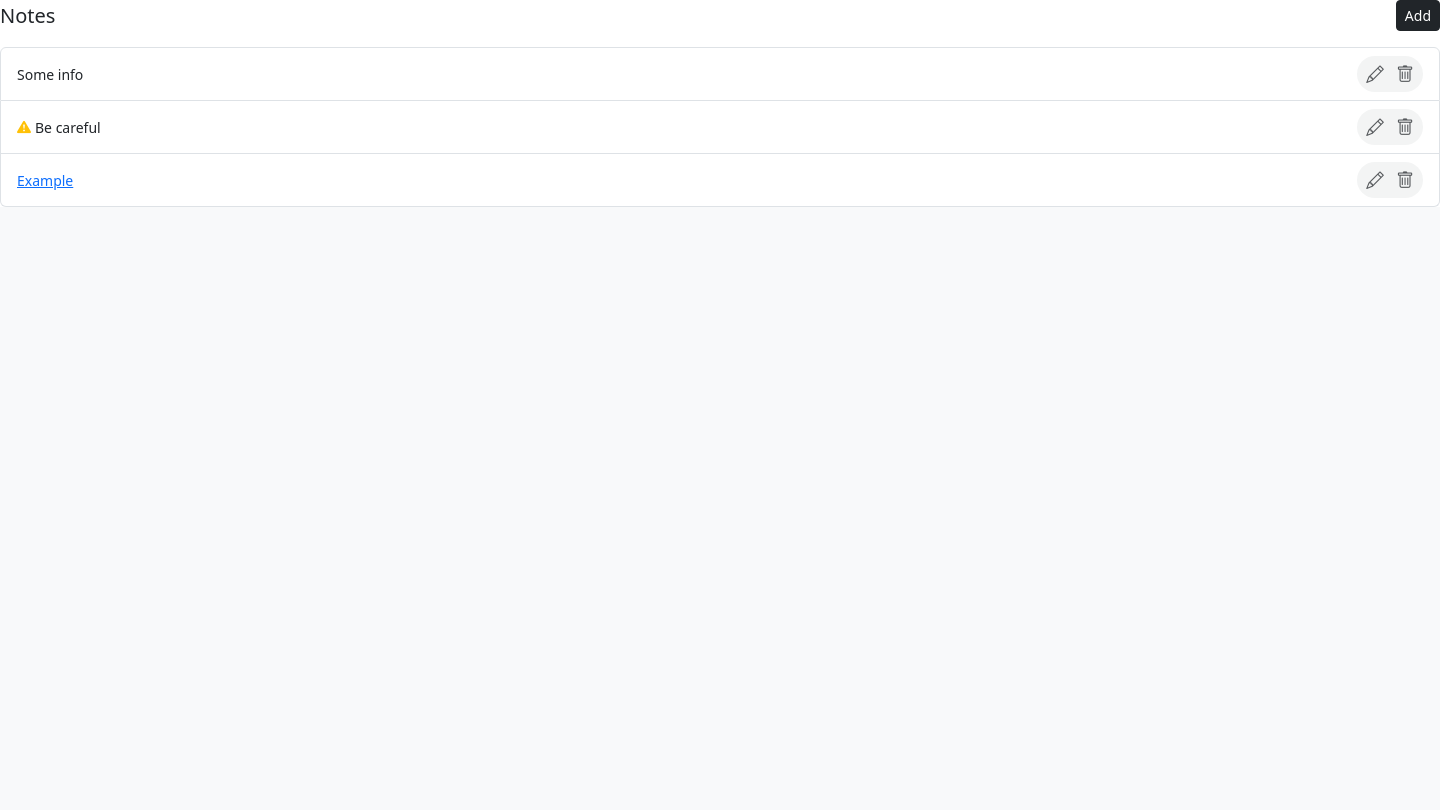
Test: NotesSection › closes edit modal on Cancel
Step 1. Click the button named "Edit note 1" → (1375, 74), box [1357,56,1393,92]
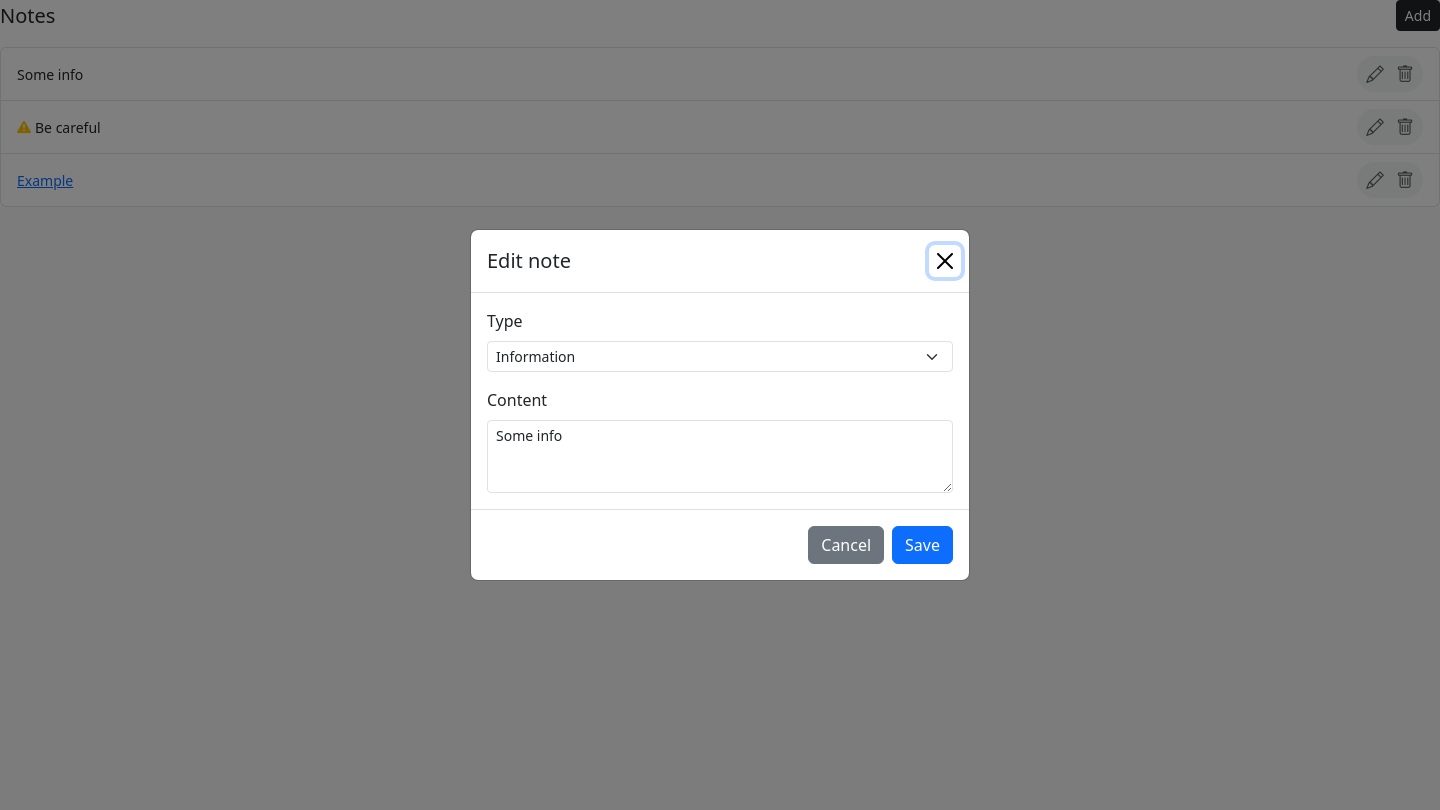
Step 2. Click the button "Cancel" → (846, 545), box [808,526,884,564]
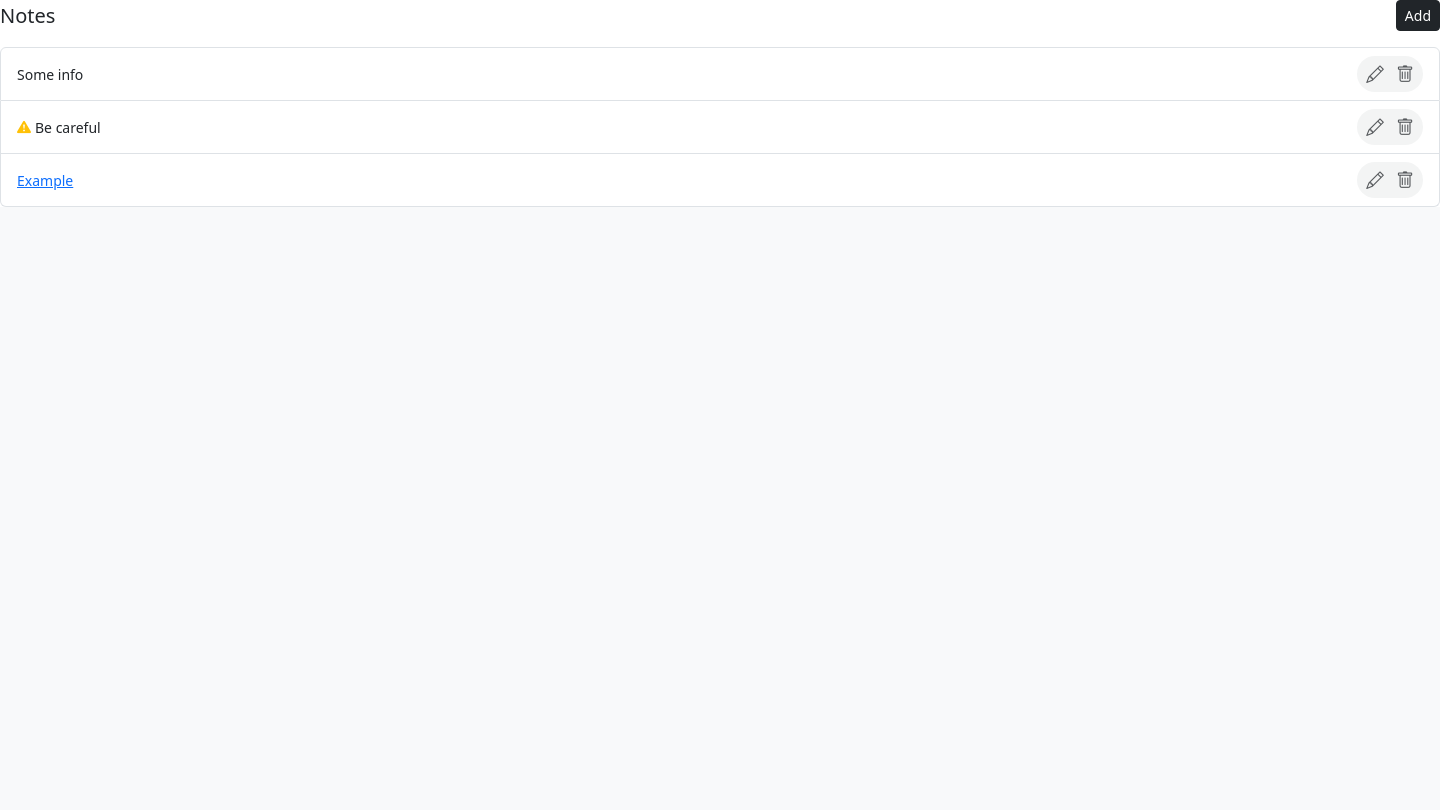
Expected: the dialog is gone
